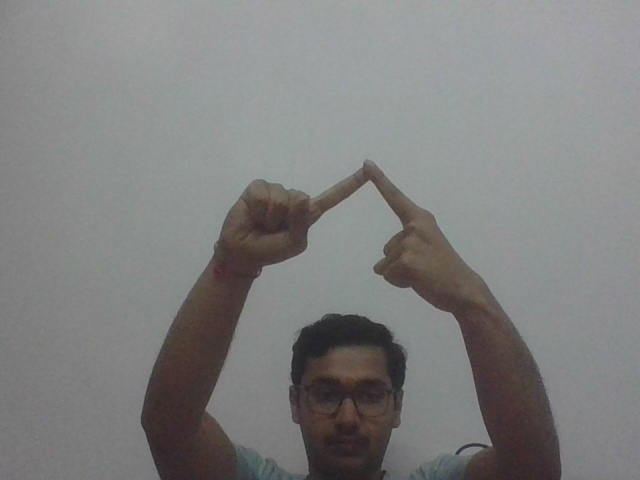E: (238, 156, 479, 300)
